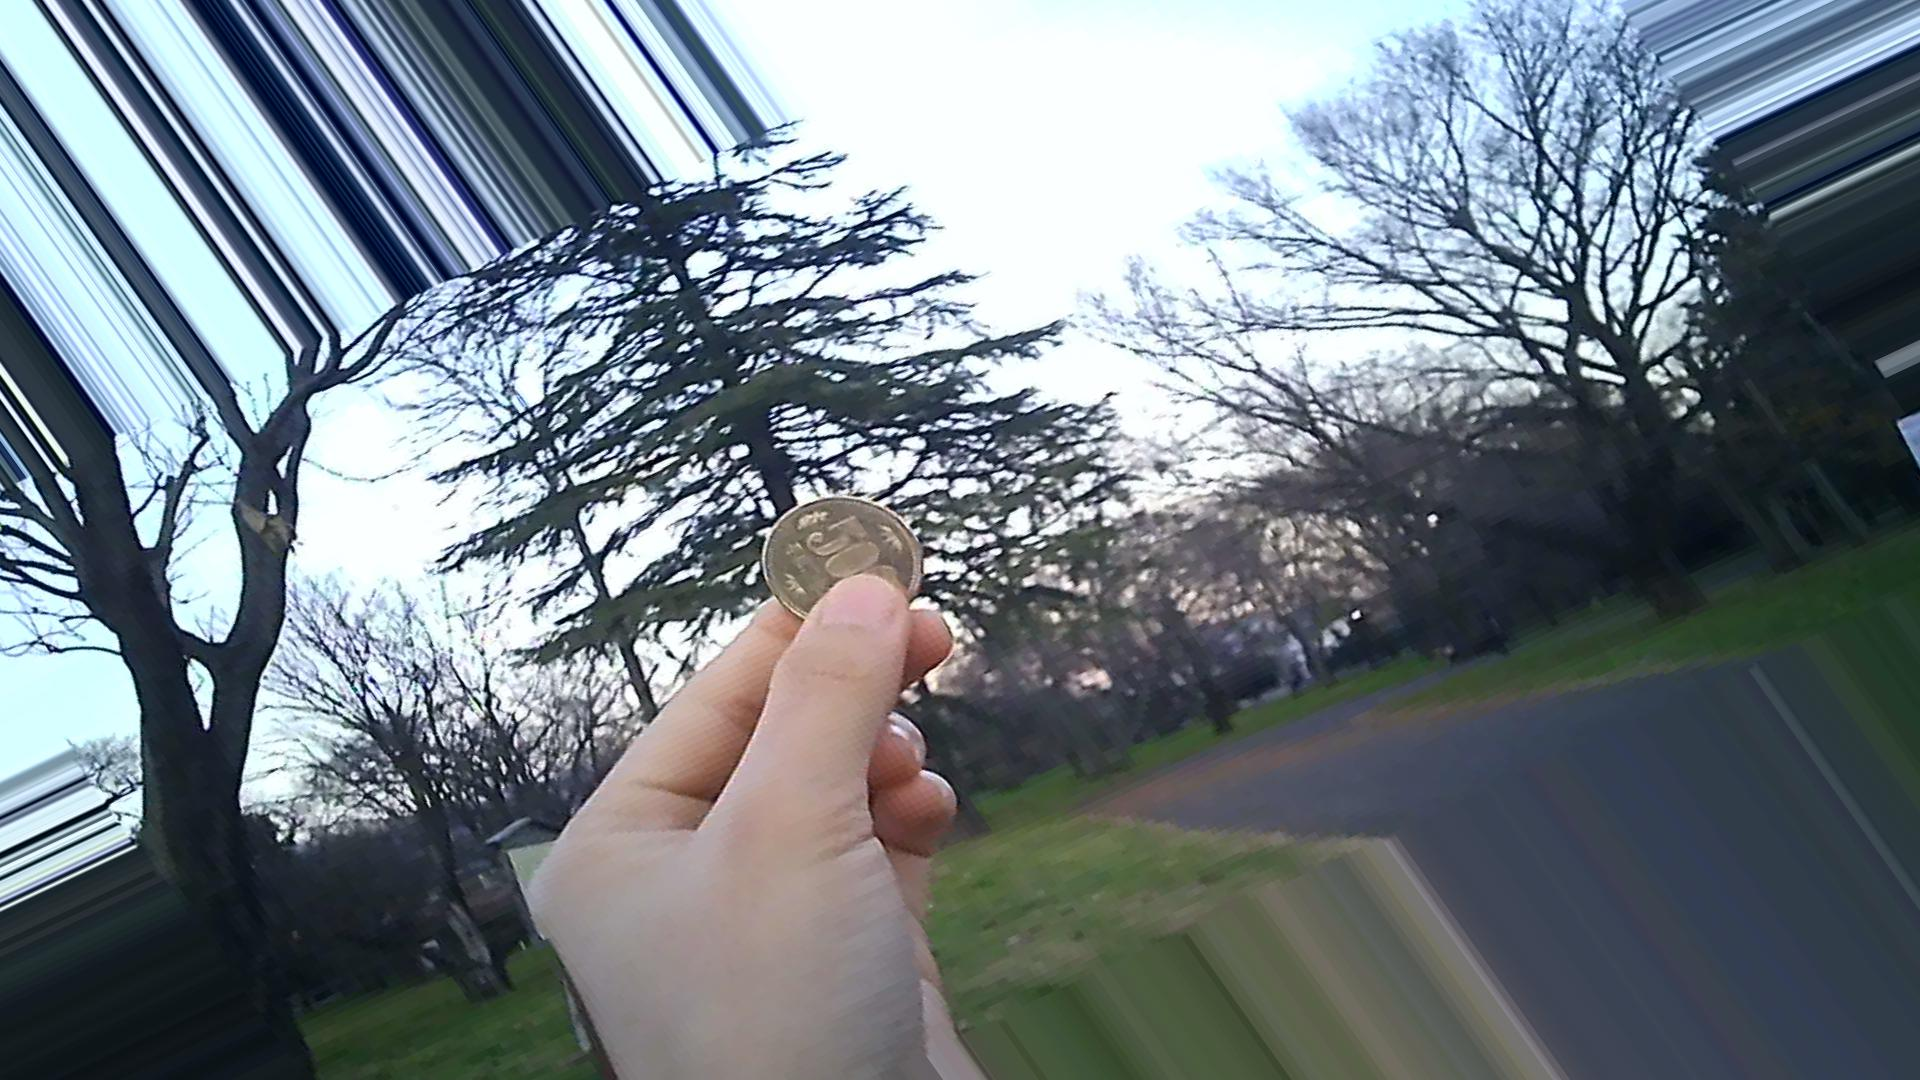500 Yen: (754, 492, 918, 628)
